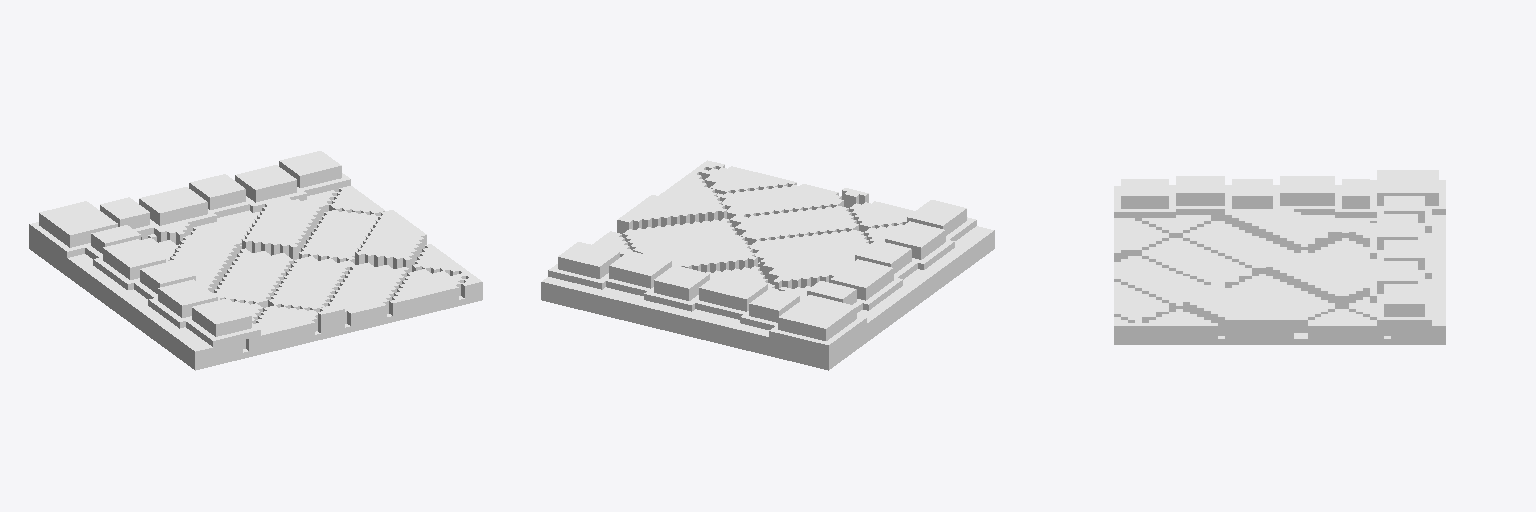
Rendered from street-corner-top-right.obj.
3 renders of one model, left to right at view 1: azimuth 30°, elevation 25°; view 2: azimuth 150°, elevation 25°; view 3: azimuth 270°, elevation 25°, orthographic.
Parts seen in each view (by area): view 1: object 1; view 2: object 1; view 3: object 1.
Boxes of the visible parts, x1=… form: object 1: x1=29, y1=151, x2=482, y2=370; object 1: x1=541, y1=160, x2=994, y2=370; object 1: x1=1114, y1=170, x2=1445, y2=344.
Bounding box in the file's own units: 4.8 × 0.6 × 4.8.